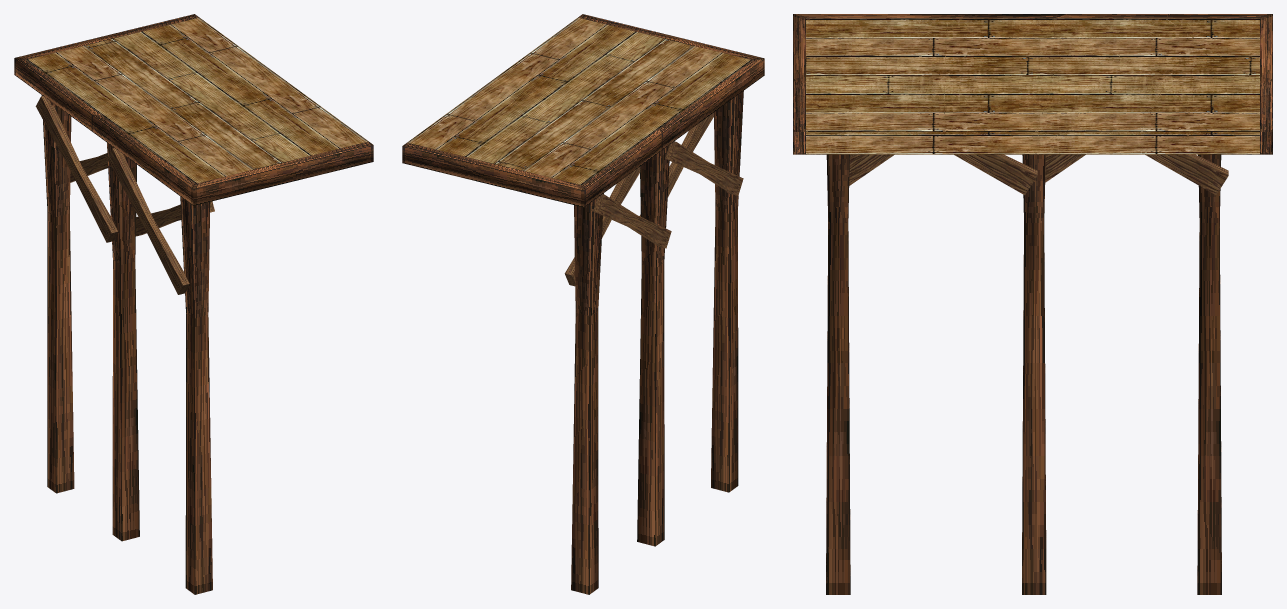
Rendered from LAKETOWN_WAREHOUSE2_PS_WH2_PIER488476__GX.obj.
The picture shows the model from 3 angles, left to right: view 1: azimuth 30°, elevation 25°; view 2: azimuth 150°, elevation 25°; view 3: azimuth 270°, elevation 25°; orthographic projection. The views are drawn at different scales.
Parts seen in each view (by area): view 1: _Pier488476__GX; view 2: _Pier488476__GX; view 3: _Pier488476__GX.
Boxes of the visible parts, x1,y1,x2,y2 form: _Pier488476__GX: (14, 14, 373, 594); _Pier488476__GX: (402, 14, 764, 594); _Pier488476__GX: (793, 14, 1272, 594).
Size of the model in its own units: 384 by 850 by 660.
